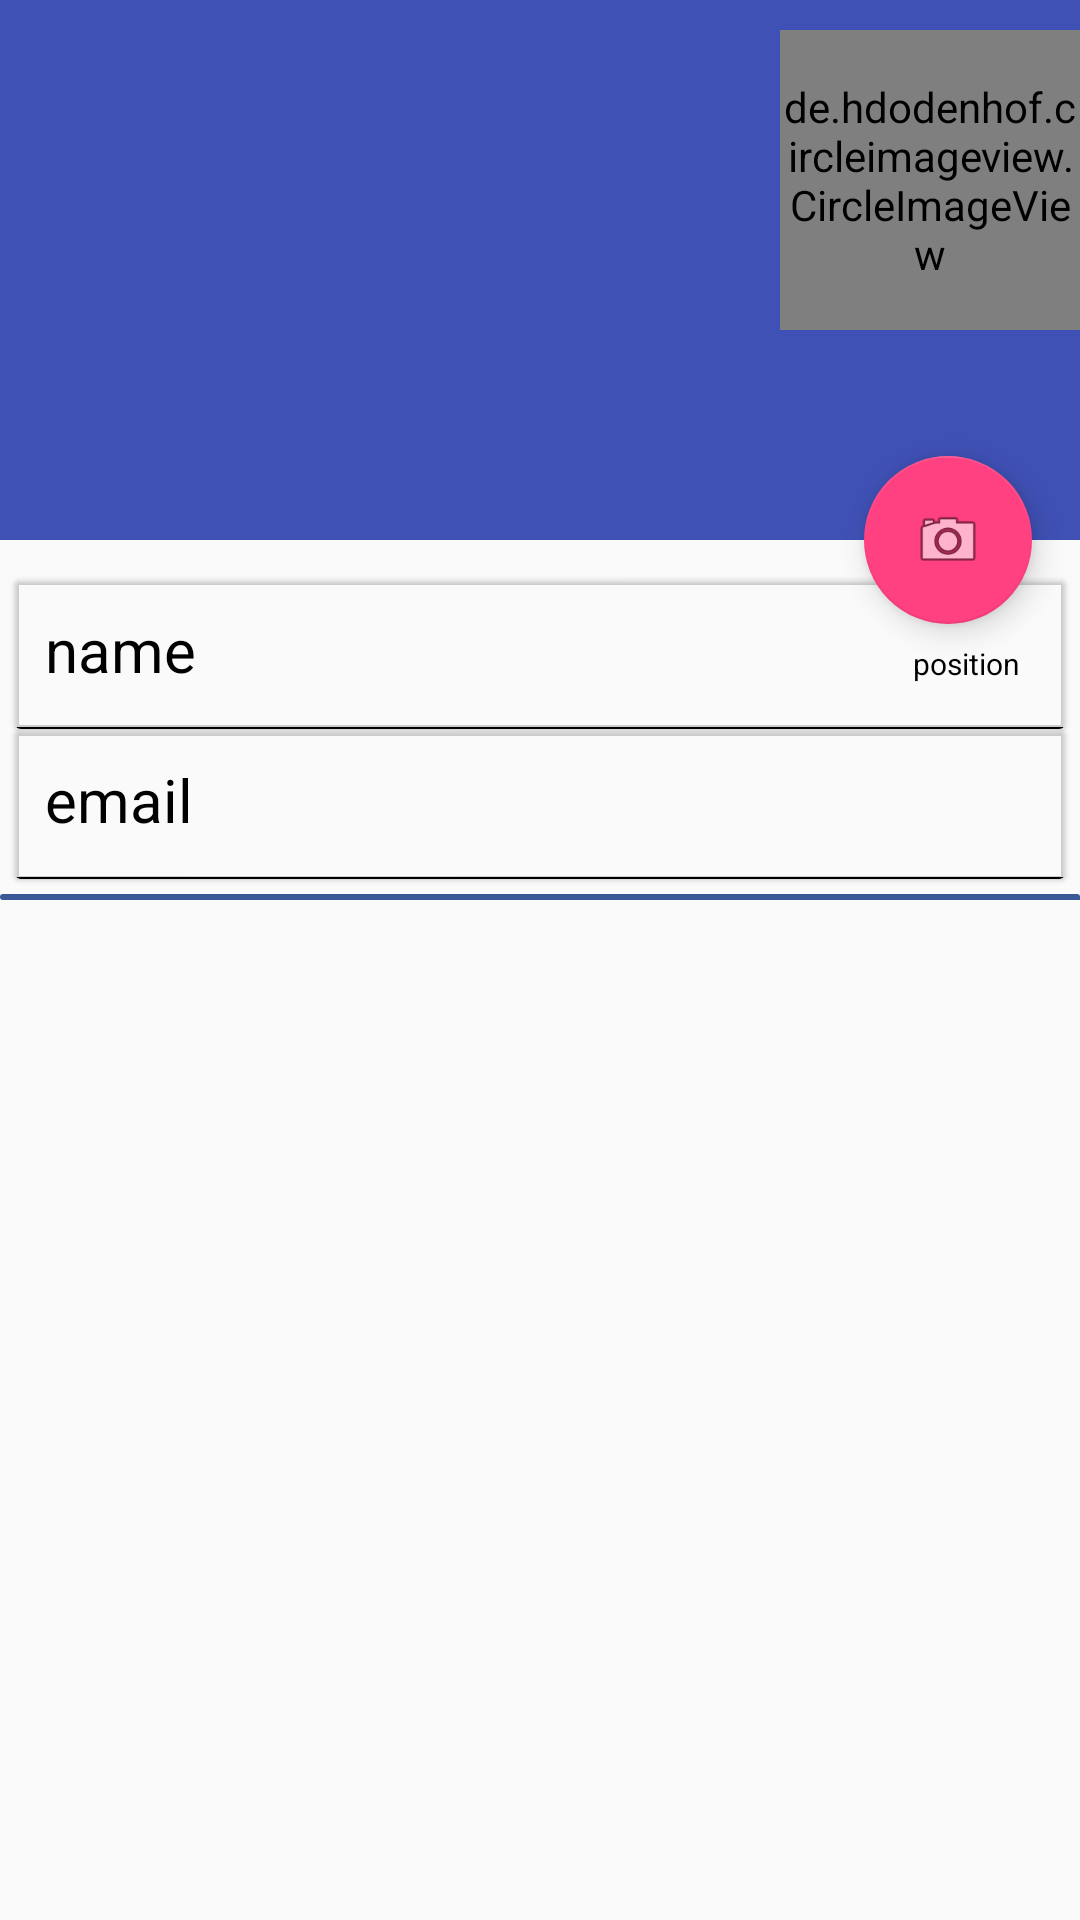

Where to tap for icons on this 1080px×1920px app screen, as [x,y]:
camera: [948,540]
